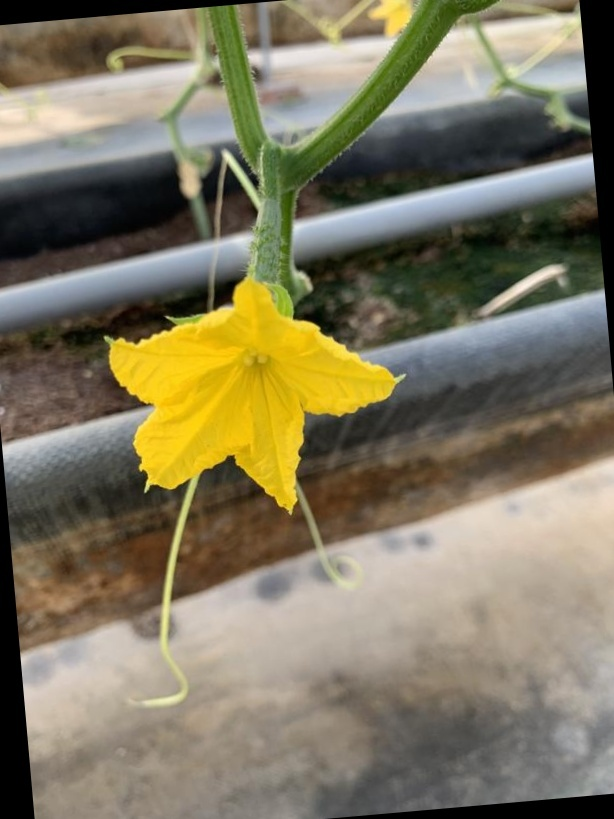flowering: (94, 175, 401, 523)
mature: (93, 176, 405, 524)
